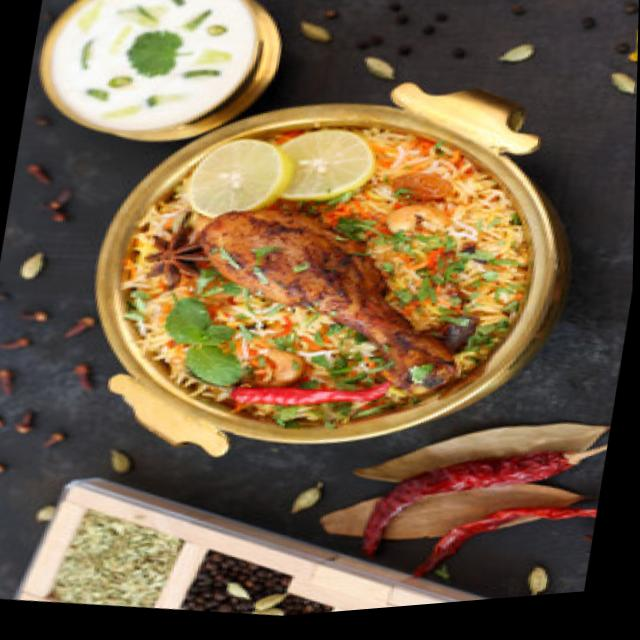BIRIYANI: (113, 128, 529, 432)
CURD: (52, 0, 253, 129)
